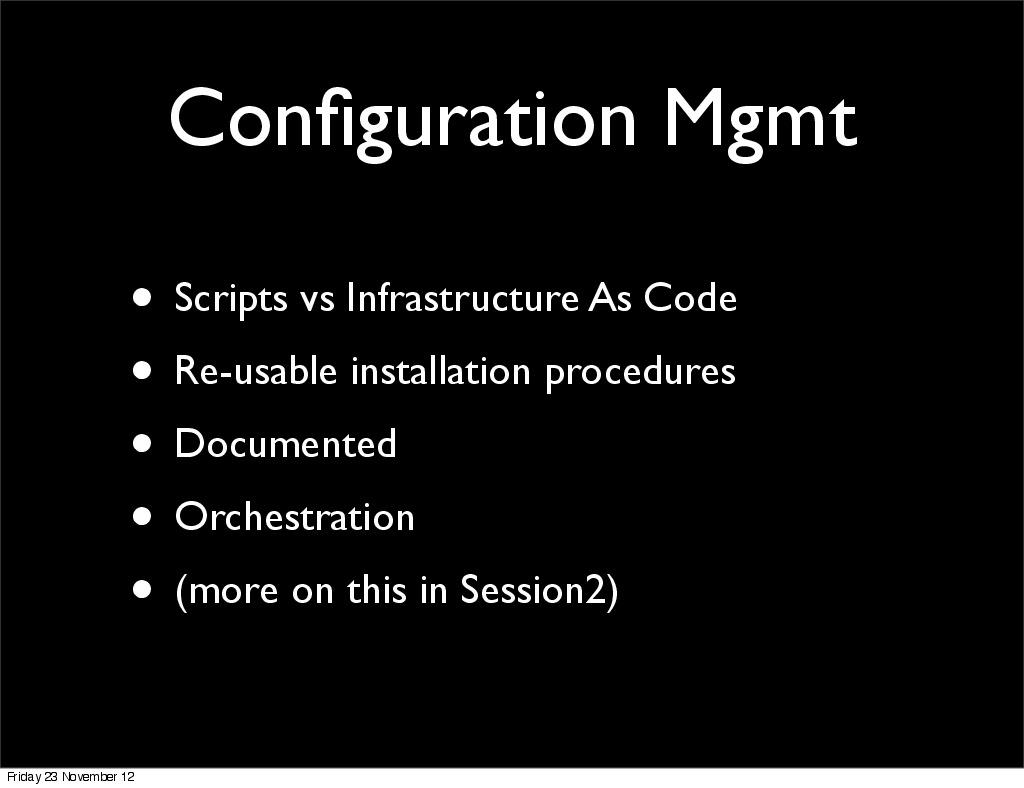paragraph: (104, 240, 813, 653)
title: (154, 53, 890, 207)
